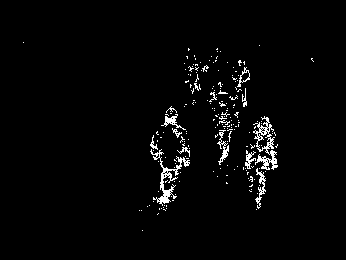person: (149, 107, 191, 218), (244, 113, 278, 211), (209, 80, 241, 171)
